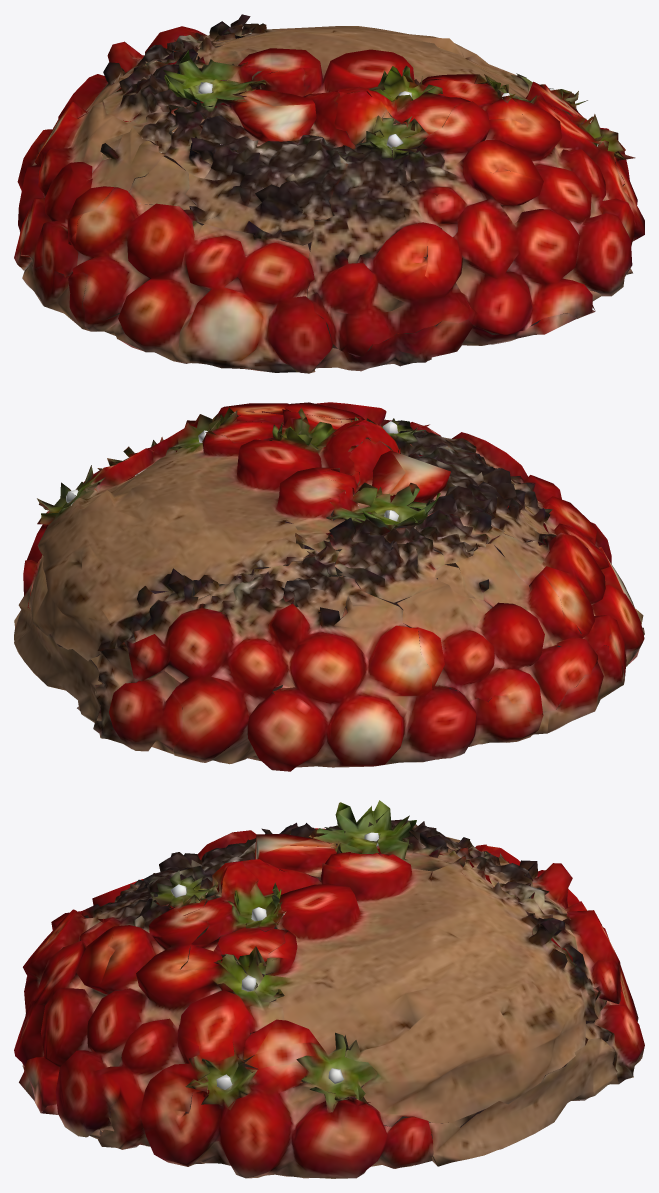
File: strawberry_chocolate_cake.gltf
3 views of the same model, one above another, from view 1: azimuth 30°, elevation 25°; view 2: azimuth 150°, elevation 25°; view 3: azimuth 270°, elevation 25° (orthographic). The views are drawn at different scales.
Visible parts, largest first — view 1: strawberry_chocolate_cake; view 2: strawberry_chocolate_cake; view 3: strawberry_chocolate_cake.
Part boxes in pixels (x1,y1,x2,y2): strawberry_chocolate_cake: (14, 14, 644, 373); strawberry_chocolate_cake: (14, 402, 644, 771); strawberry_chocolate_cake: (14, 800, 644, 1178).
Bounding box in the file's own units: 0.2437 × 0.0786 × 0.2403.
Materials: 1 (1 with a texture image).
